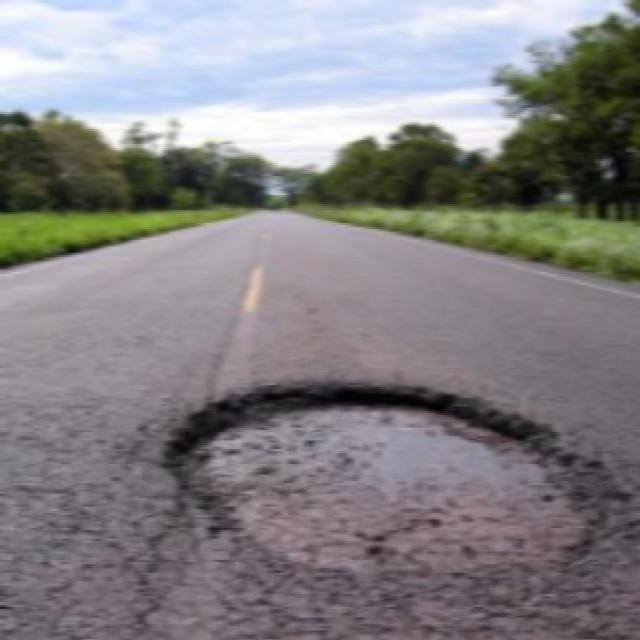Pothole: (144, 382, 618, 592)
